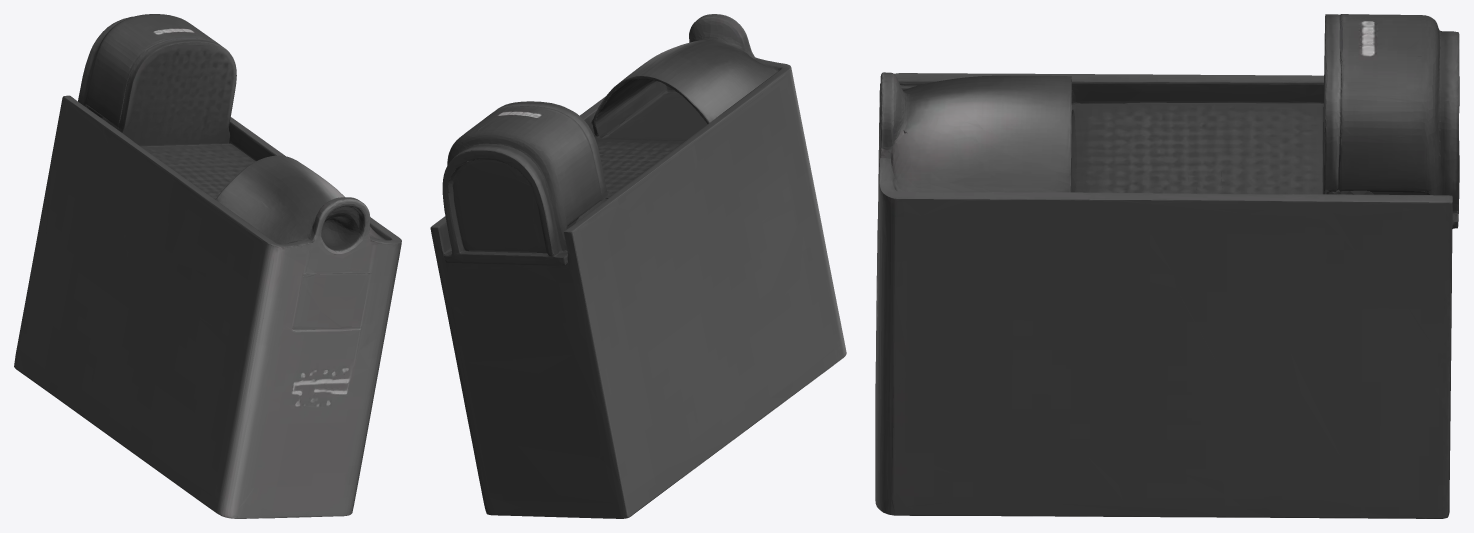
The picture shows the model from 3 angles, left to right: view 1: azimuth 30°, elevation 25°; view 2: azimuth 150°, elevation 25°; view 3: azimuth 270°, elevation 25°; orthographic projection. The views are drawn at different scales.
Visible parts, largest first — view 1: geometry_0; view 2: geometry_0; view 3: geometry_0.
Boxes of the visible parts, left/top/right/bottom form: geometry_0: left=14, top=14, right=401, bottom=518; geometry_0: left=430, top=14, right=846, bottom=518; geometry_0: left=875, top=14, right=1459, bottom=518.
Bounding box in the file's own units: 0.1584 × 0.2934 × 0.3209.
1 material, 1 textured.
